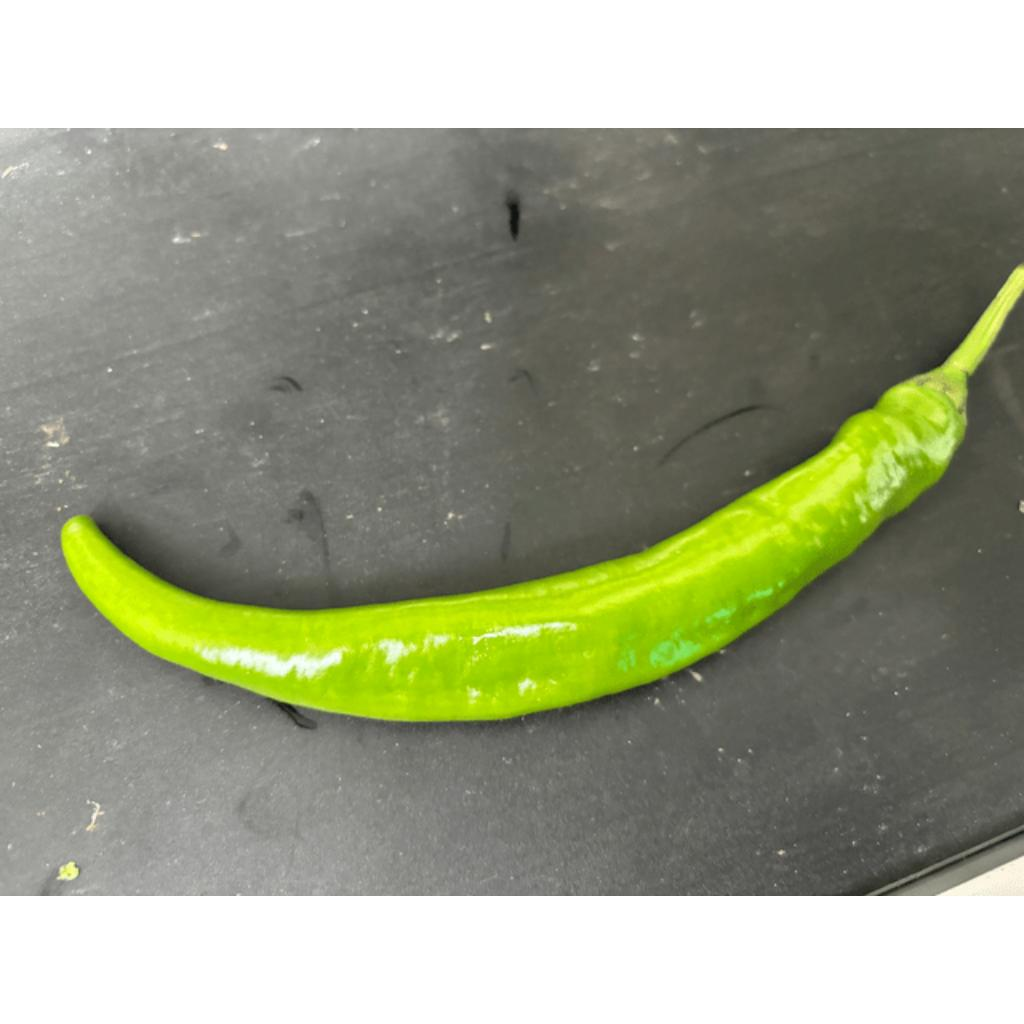chili: (59, 371, 973, 725)
